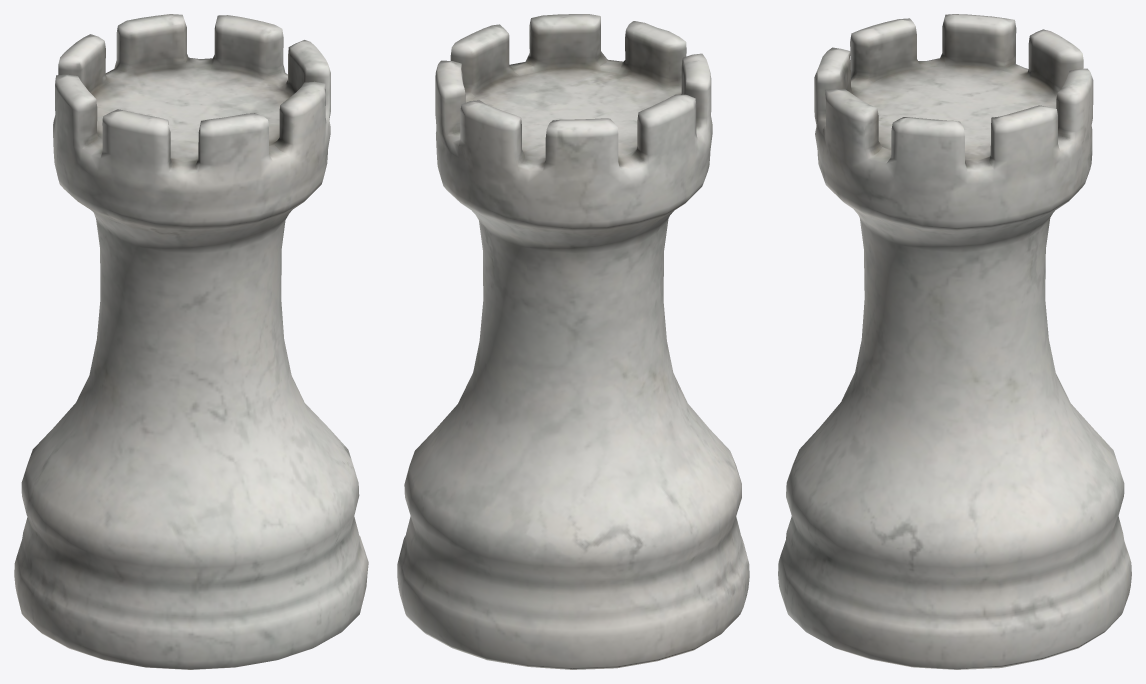
Rendered from chess-set-1k-piece-rook-white-01.glb.
3 views of the same model, side by side, from view 1: azimuth 30°, elevation 25°; view 2: azimuth 150°, elevation 25°; view 3: azimuth 270°, elevation 25° (orthographic).
Visible parts, largest first — view 1: piece_rook_white_01; view 2: piece_rook_white_01; view 3: piece_rook_white_01.
Part boxes in pixels (x1,y1,x2,y2): piece_rook_white_01: (14, 14, 368, 669); piece_rook_white_01: (397, 14, 749, 669); piece_rook_white_01: (778, 14, 1131, 669).
Bounding box in the file's own units: 0.0368 × 0.0606 × 0.0367.
Materials: 1 (1 with a texture image).
